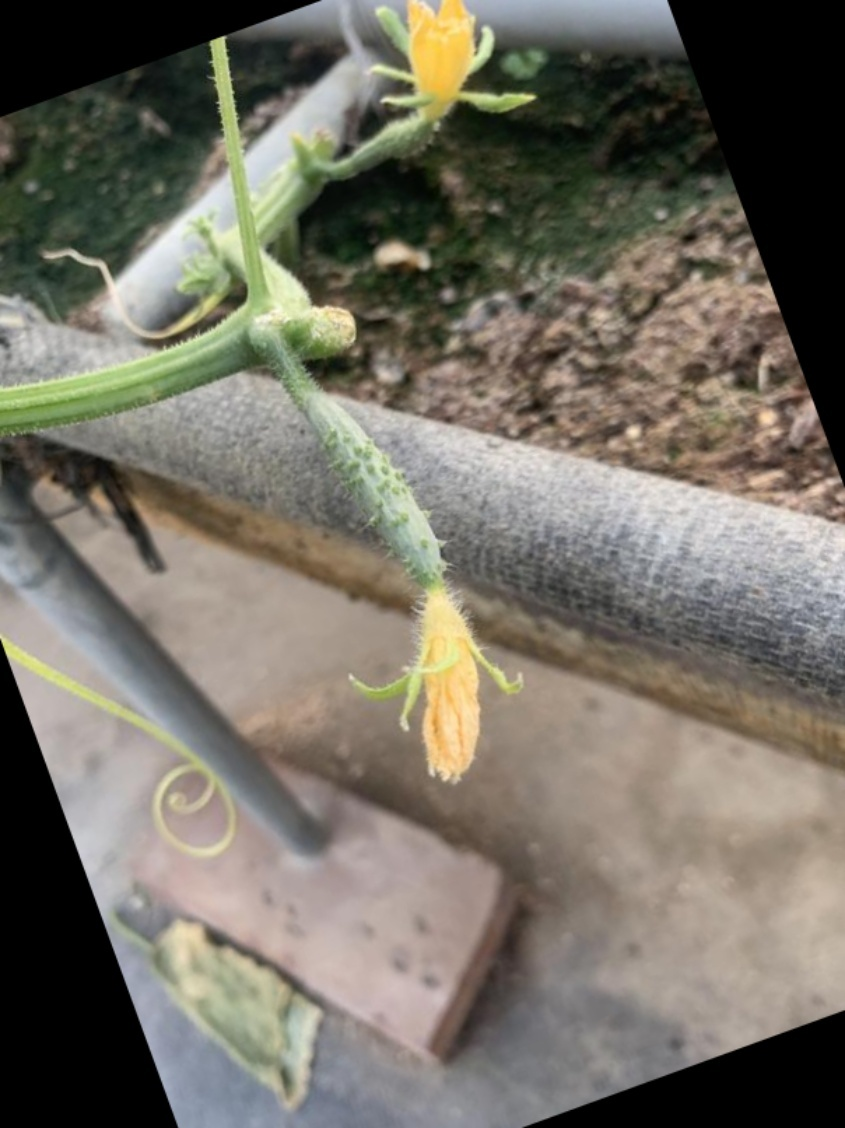bear: (281, 350, 542, 800), (334, 1, 530, 182)
